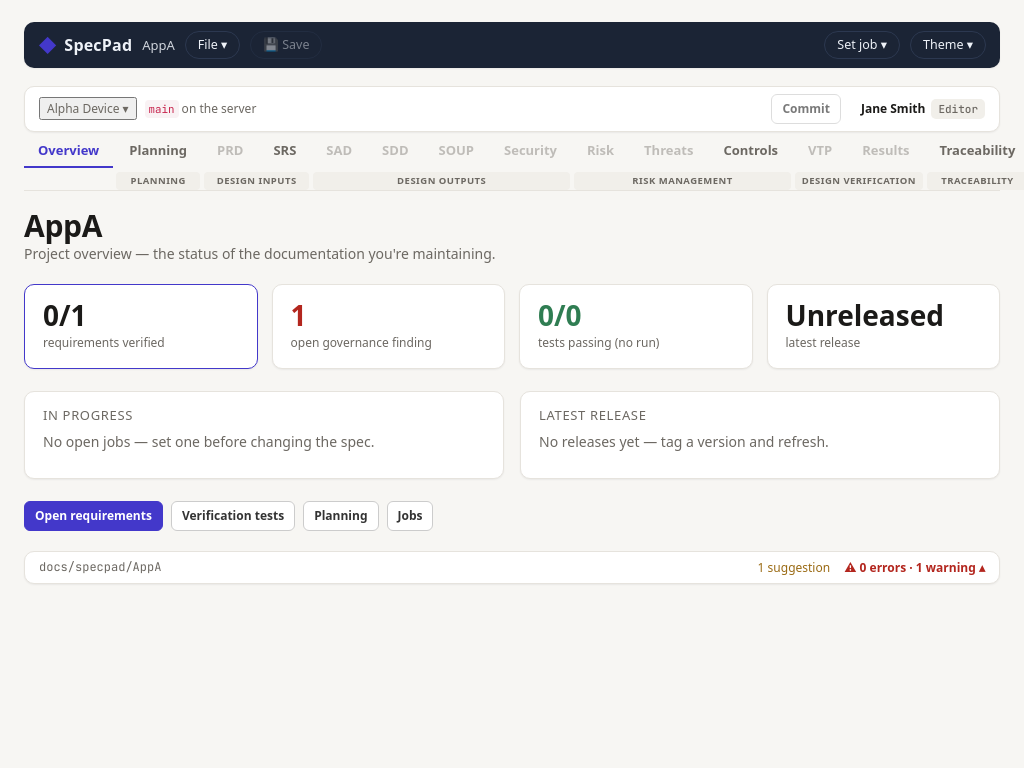
LocalApp document switching › reloads from the newly-selected project and rewrites the URL to name it
What coordinates should you click on to do the following:
click the button "Alpha Device ▾"
I would click on:
 (88, 109)
Its box is x1=39 y1=97 x2=137 y2=120.
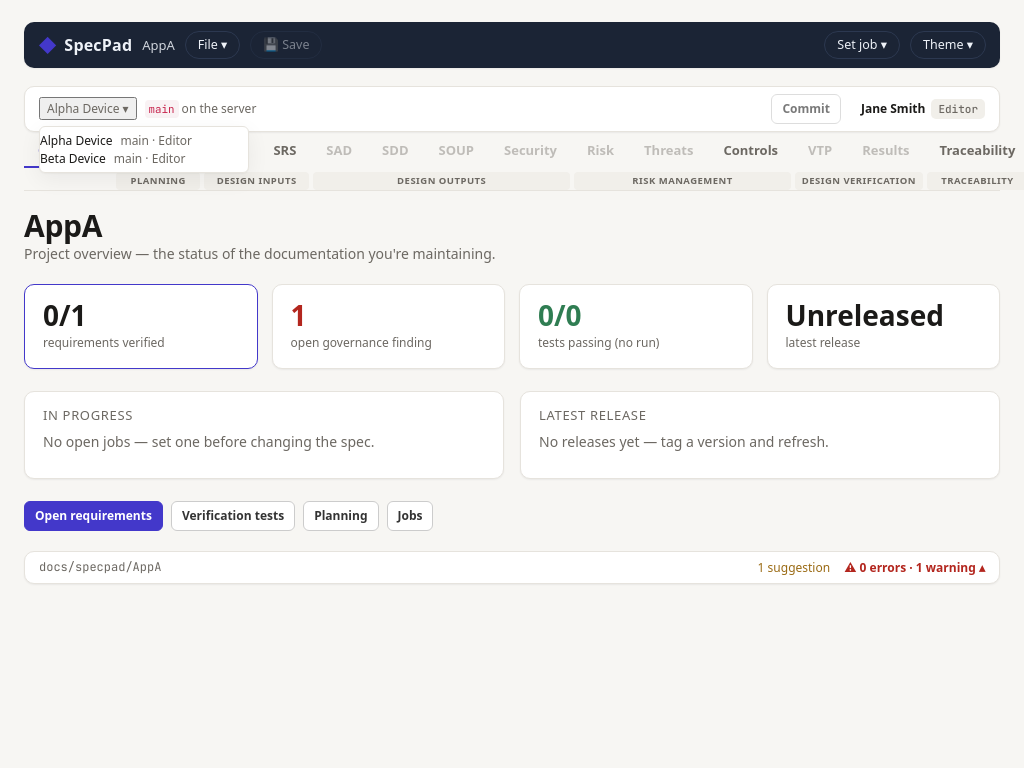
What coordinates should you click on to do the following:
click the menu item "Beta Device"
I would click on:
 (113, 158)
Its box is x1=40 y1=150 x2=185 y2=166.
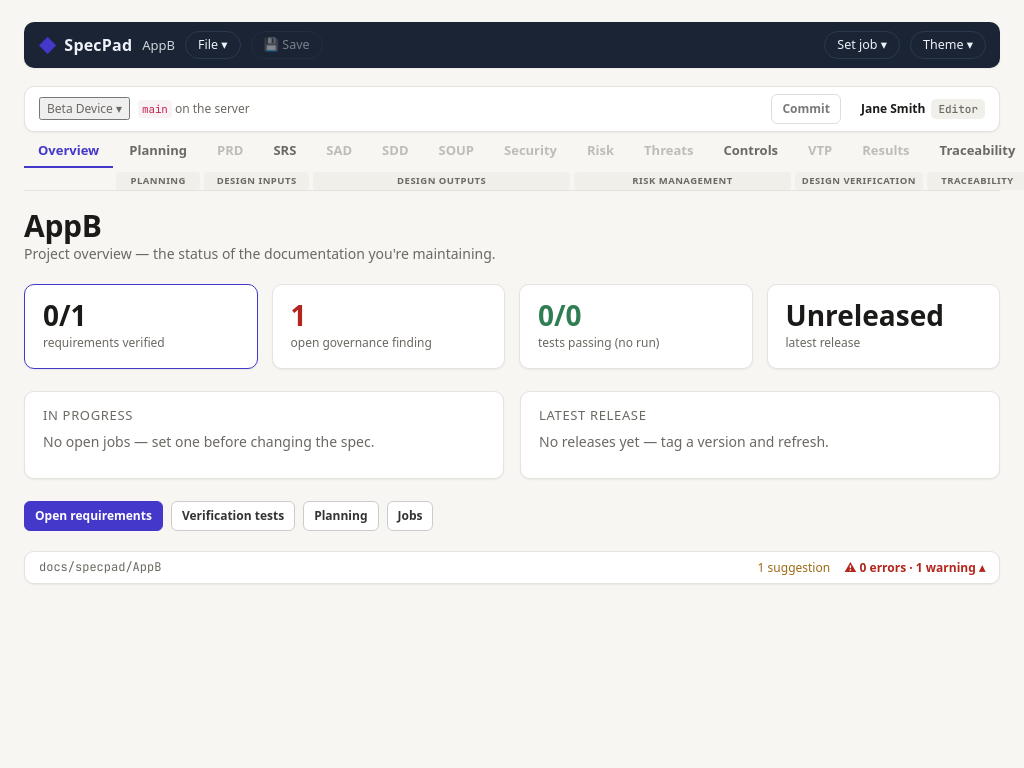
Check: the button "Beta Device ▾" is shown, box x1=39 y1=97 x2=130 y2=120
